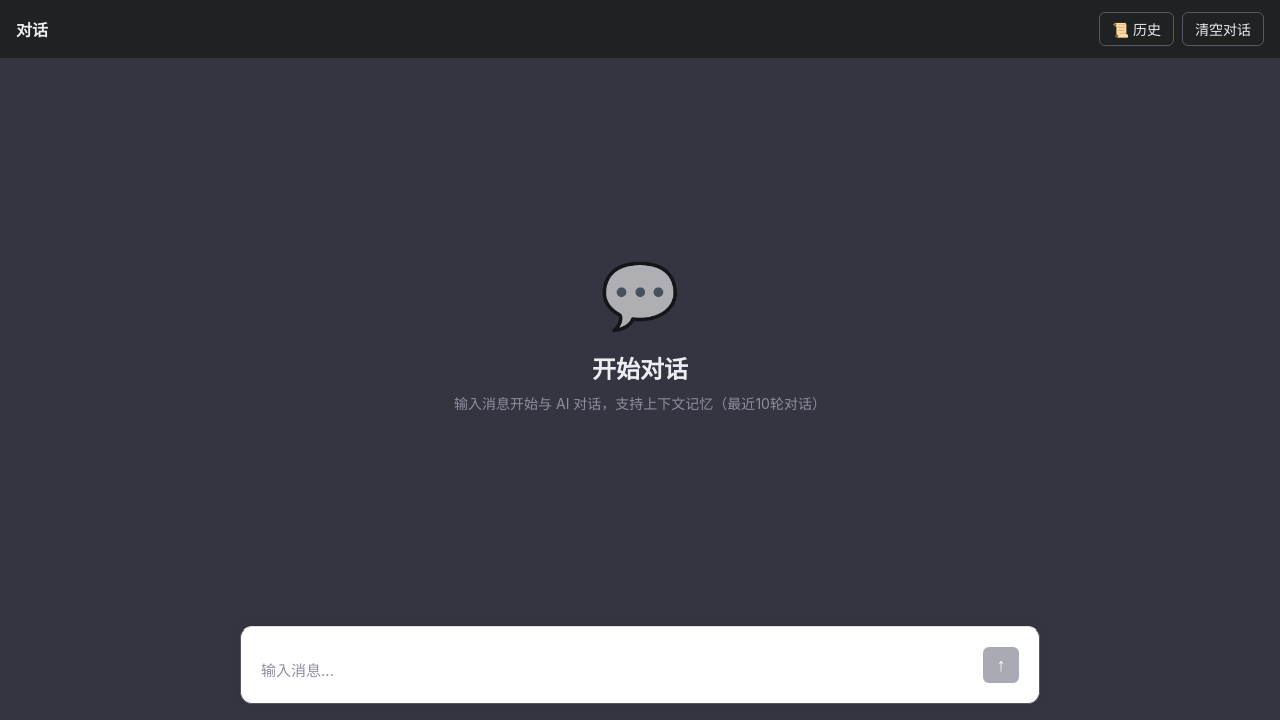
Test: ChatInterface › 发送中显示 loading 状态
Step 1. Type "你好" into the text box → (616, 672), box [261,660,971,683]
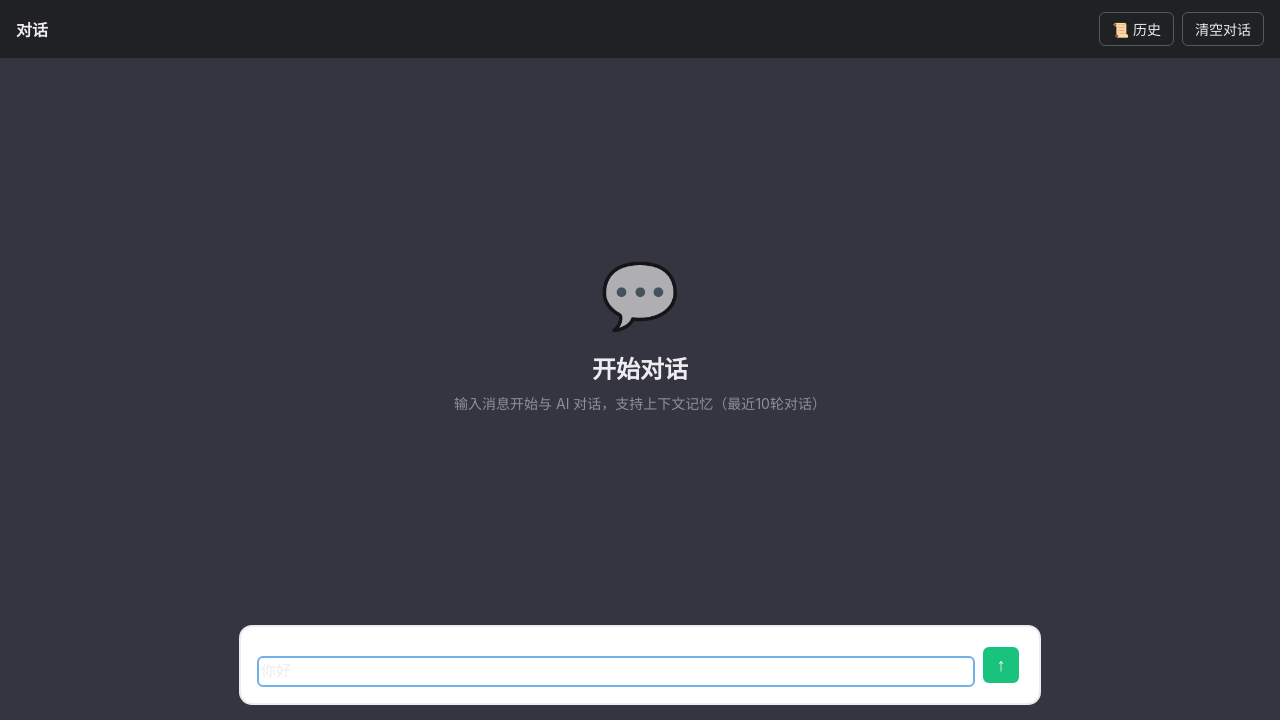
Step 2. Click the button named "发送消息" → (1001, 665), box [983,647,1019,683]
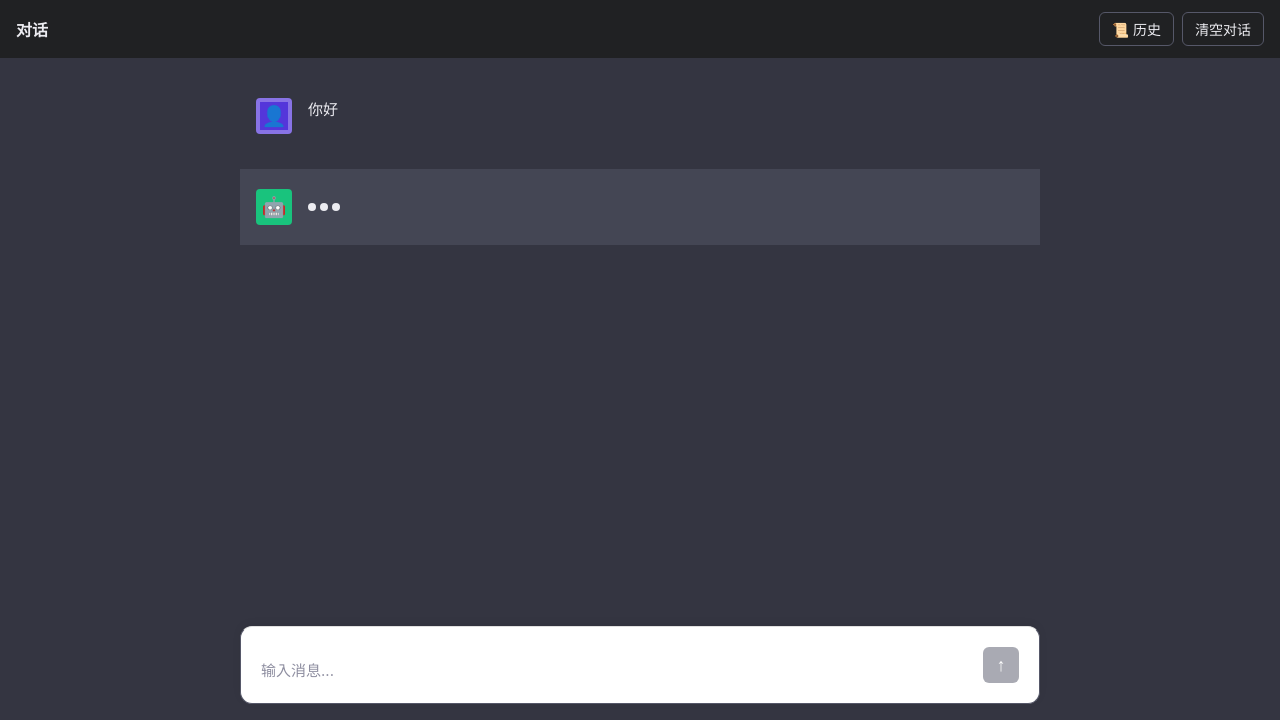
expect the message named "AI正在回复" is shown: met, box [240,169,1040,245]
